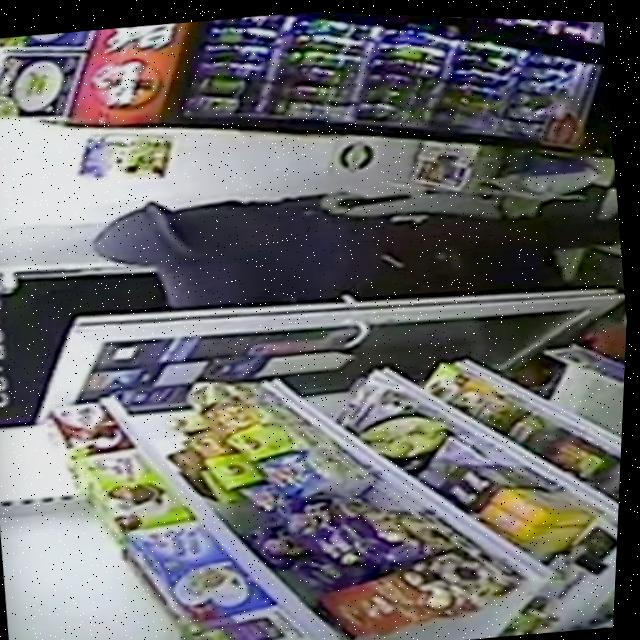pistol: (335, 184, 417, 209)
